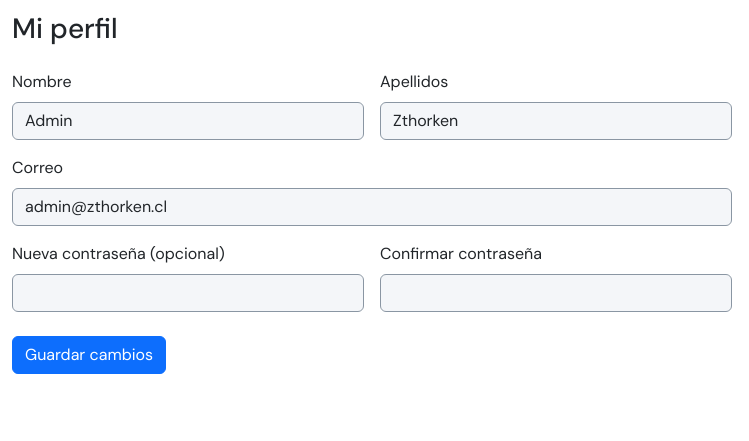
Test: Perfil › muestra errores si se borran los datos
Clear the field labelled "Nombre" at (188, 121), box [12,102,364,140]
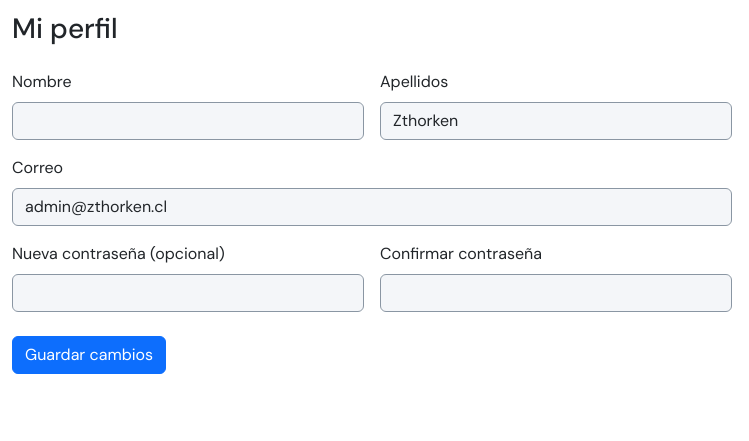
Replace the text in the field labelled "Correo" with "correo-malo" at (372, 207), box [12,188,732,226]
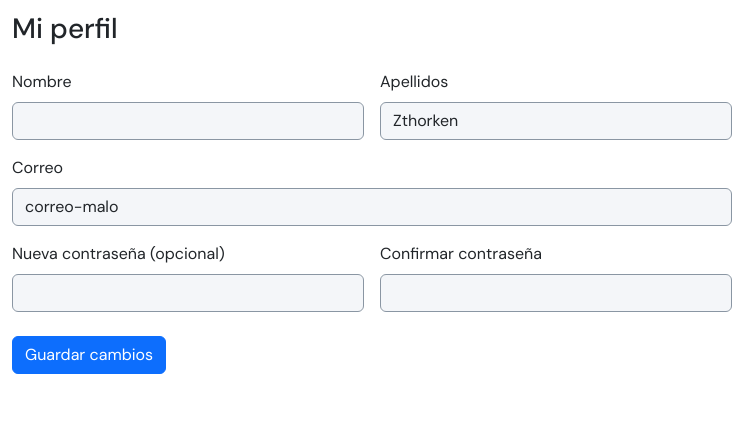
Click the button "Guardar cambios" at (89, 355), box [12,336,166,374]
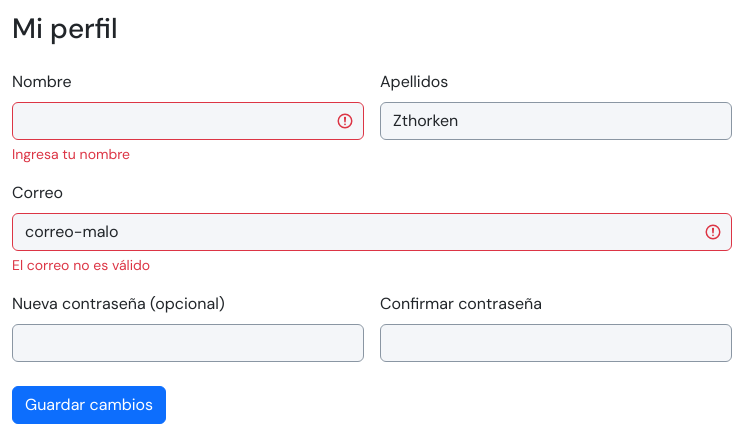
Check: the text "Ingresa tu nombre" is shown, box [12,145,130,163]
Check: the text "El correo no es válido" is shown, box [12,256,150,274]
